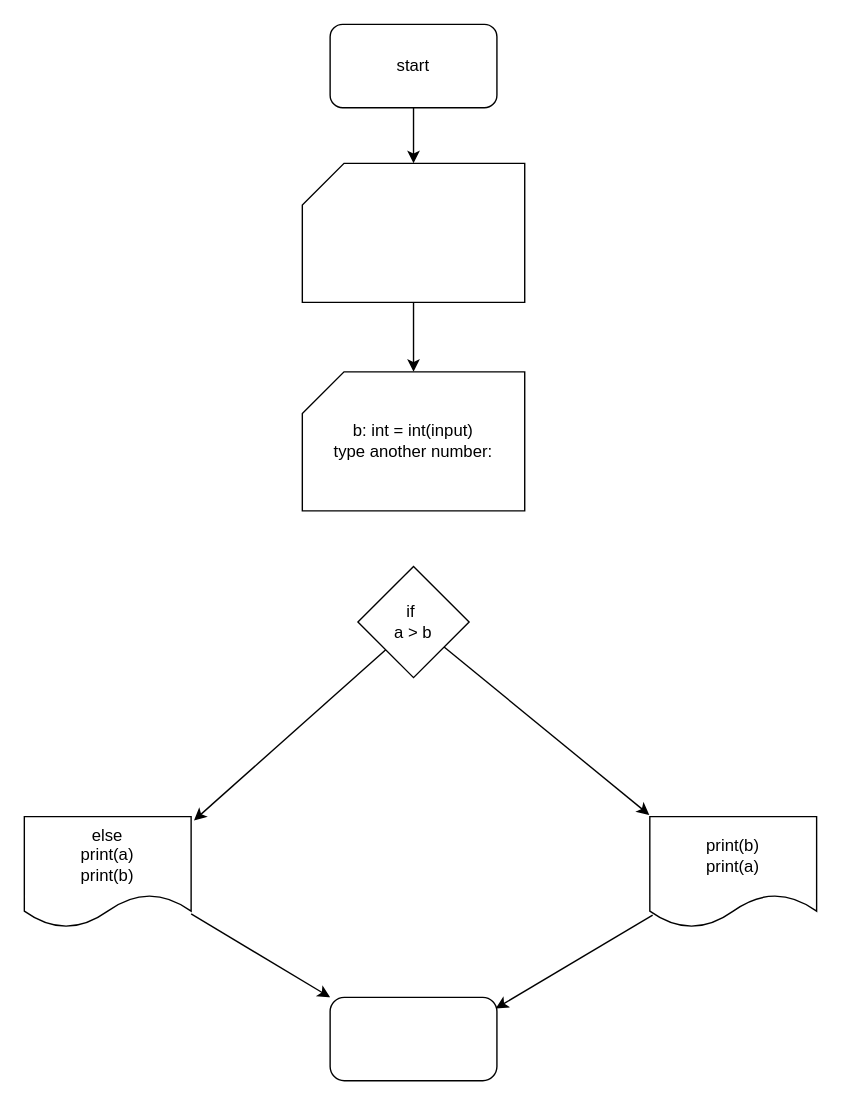
The diagram is 841 pixels wide and 1105 high, and some of its shapes have lost their labels. The centre of each missing label's shape, as x and y in pixels:
"a: int = int(input) type a number:" belongs at [413,232].
"end" belongs at [413,1038].
